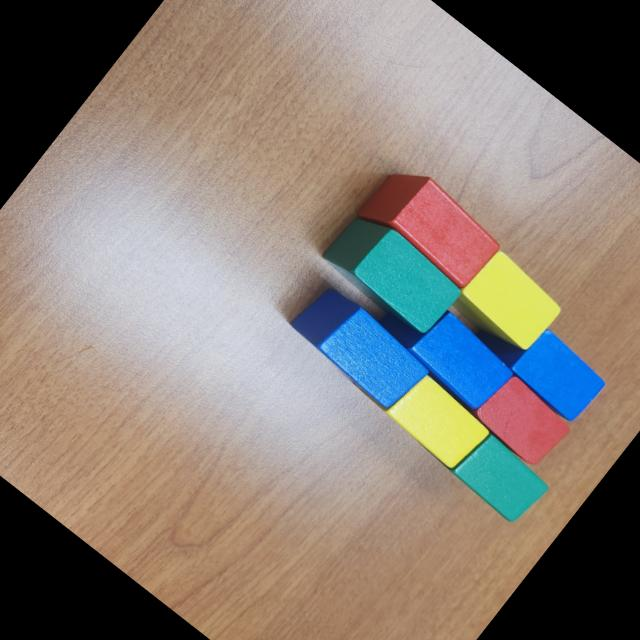blue: (282, 278, 438, 420), (376, 285, 522, 418), (468, 297, 612, 428)
green: (316, 202, 468, 342), (412, 400, 556, 531)
red: (355, 155, 506, 296), (470, 370, 577, 472)
yellow: (348, 342, 494, 475), (448, 246, 568, 363)
